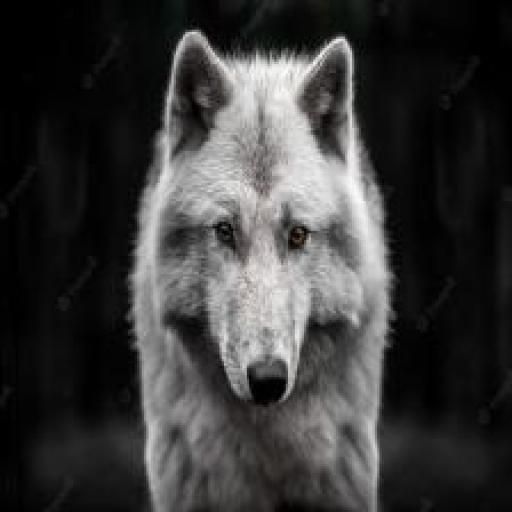wolf: (132, 7, 399, 511)
